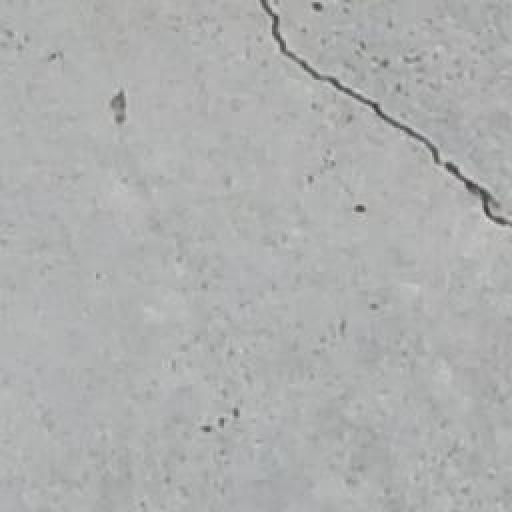spalling: (252, 7, 511, 242)
